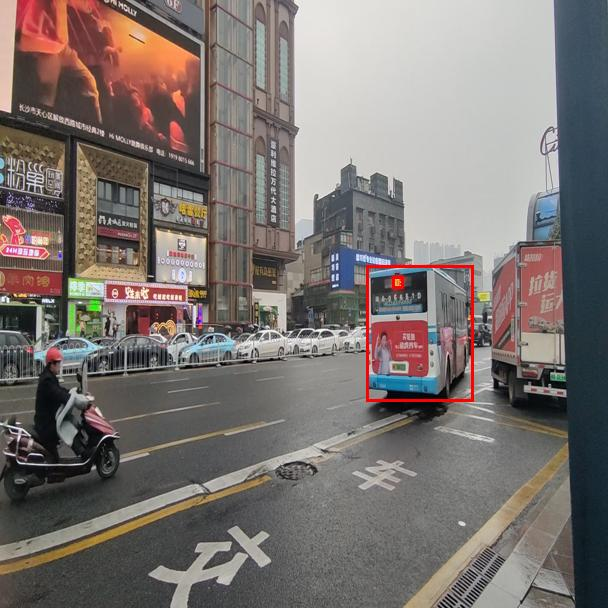bus: (366, 265, 473, 401)
screen: (392, 276, 403, 288)
